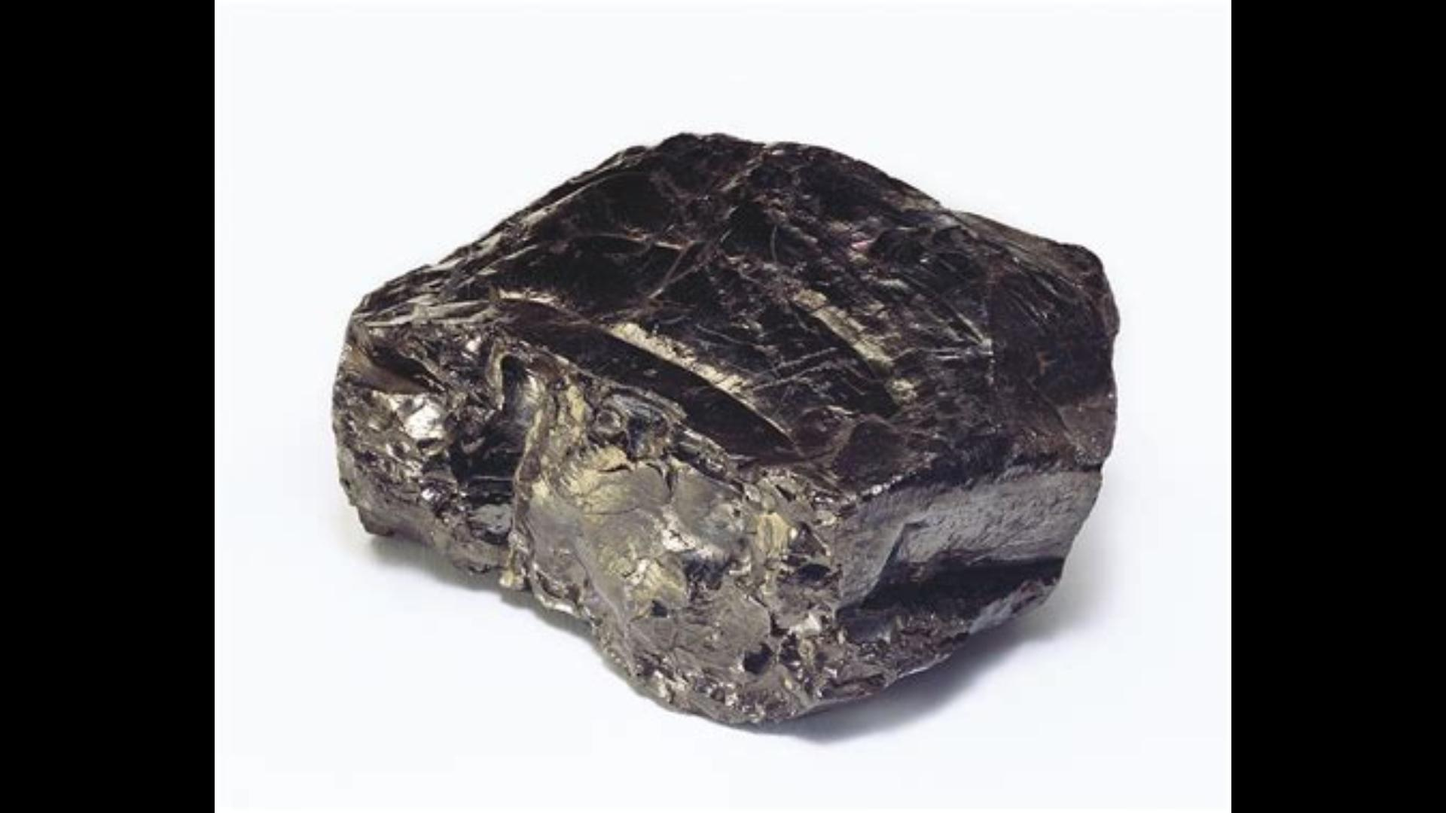rock: (335, 135, 1116, 719)
